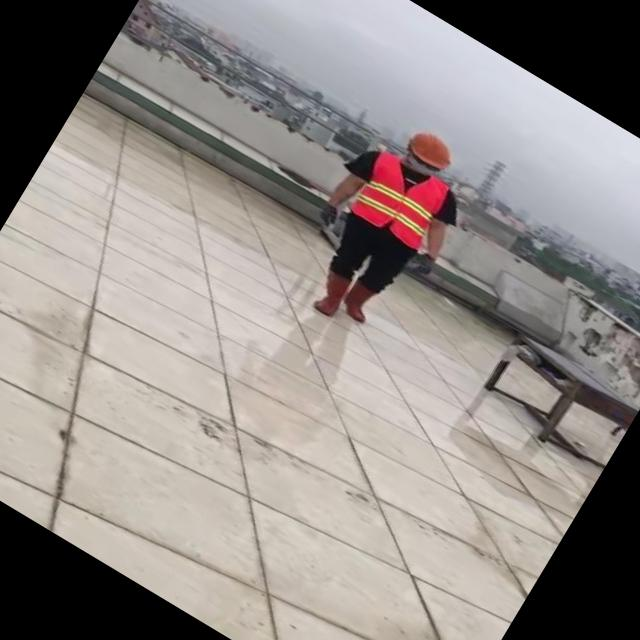hard_hat: (404, 124, 459, 170)
safety_vest: (345, 146, 456, 254)
vehicle: (265, 98, 498, 355)
work_boots: (307, 266, 355, 320), (336, 278, 382, 324)
